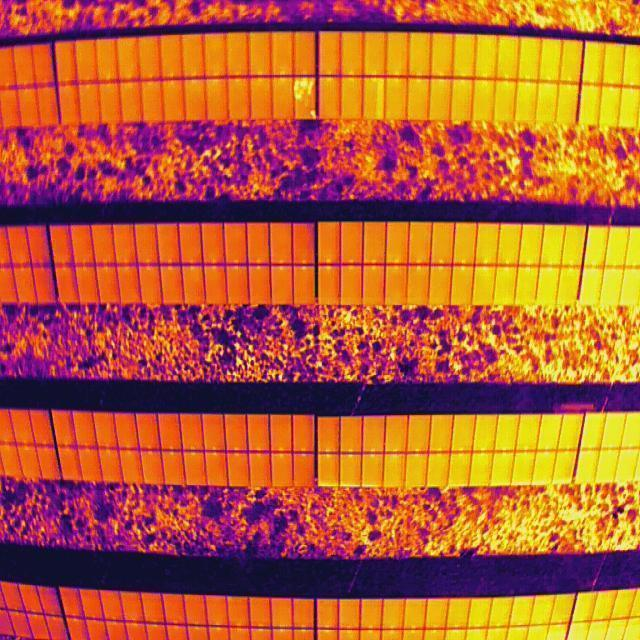diode: (375, 76, 385, 120)
hotspot: (294, 78, 316, 101)
